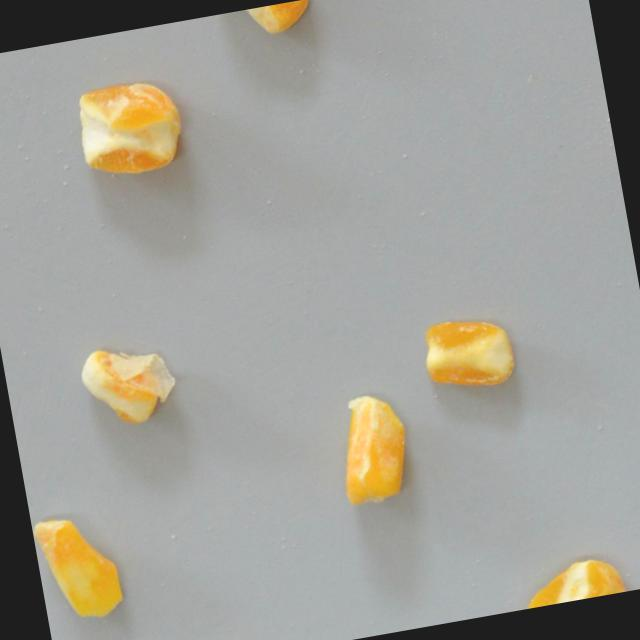pelicula: (67, 66, 189, 186), (65, 322, 187, 442), (31, 508, 128, 628), (324, 388, 419, 510), (414, 309, 520, 399), (509, 550, 631, 610), (213, 0, 322, 43)
